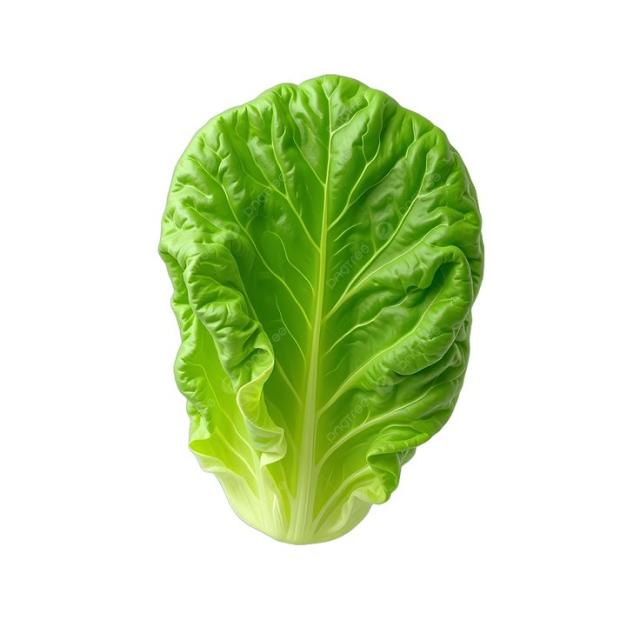lettuce: (160, 76, 482, 543)
